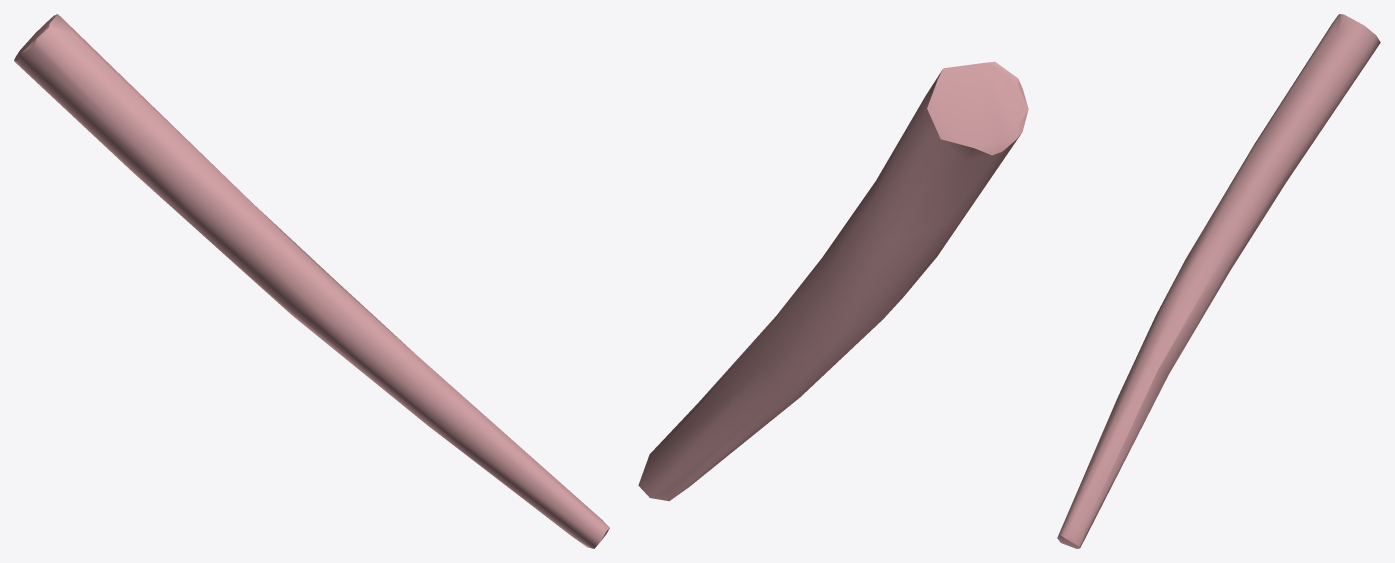
File: fma68218_fj2456.glb
3 views of the same model, side by side, from view 1: azimuth 30°, elevation 25°; view 2: azimuth 150°, elevation 25°; view 3: azimuth 270°, elevation 25° (orthographic). The views are drawn at different scales.
Parts seen in each view (by area): view 1: FMA68218_FJ2456; view 2: FMA68218_FJ2456; view 3: FMA68218_FJ2456.
Boxes of the visible parts, bbox=[...] form: FMA68218_FJ2456: bbox=[14, 14, 609, 548]; FMA68218_FJ2456: bbox=[638, 61, 1028, 501]; FMA68218_FJ2456: bbox=[1057, 14, 1380, 548].
Size of the model in its own units: 0.0293 by 0.0332 by 0.025.
